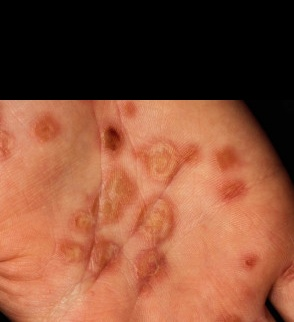SJS-TEN: (0, 99, 279, 322)
